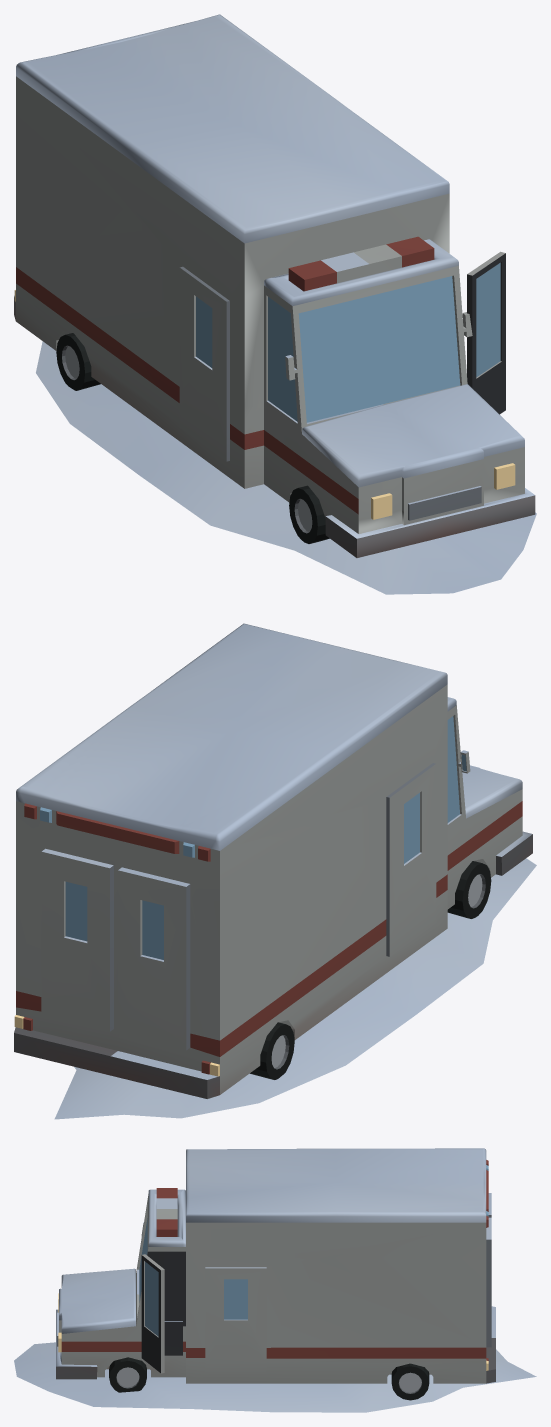
File: ambulance_doors.glb
3 views of the same model, one above another, from view 1: azimuth 30°, elevation 25°; view 2: azimuth 150°, elevation 25°; view 3: azimuth 270°, elevation 25° (orthographic). The views are drawn at different scales.
Visible parts, largest first — view 1: Body, Glass; view 2: Body, Glass; view 3: Body, Glass.
Part boxes in pixels (bbox=[...]): Body: bbox=[14, 14, 536, 594]; Glass: bbox=[196, 262, 500, 422]; Body: bbox=[14, 623, 536, 1119]; Glass: bbox=[40, 716, 466, 959]; Body: bbox=[14, 1148, 536, 1412]; Glass: bbox=[139, 1165, 488, 1336].
Bounding box in the file's own units: 3.03 × 2.98 × 7.49.
